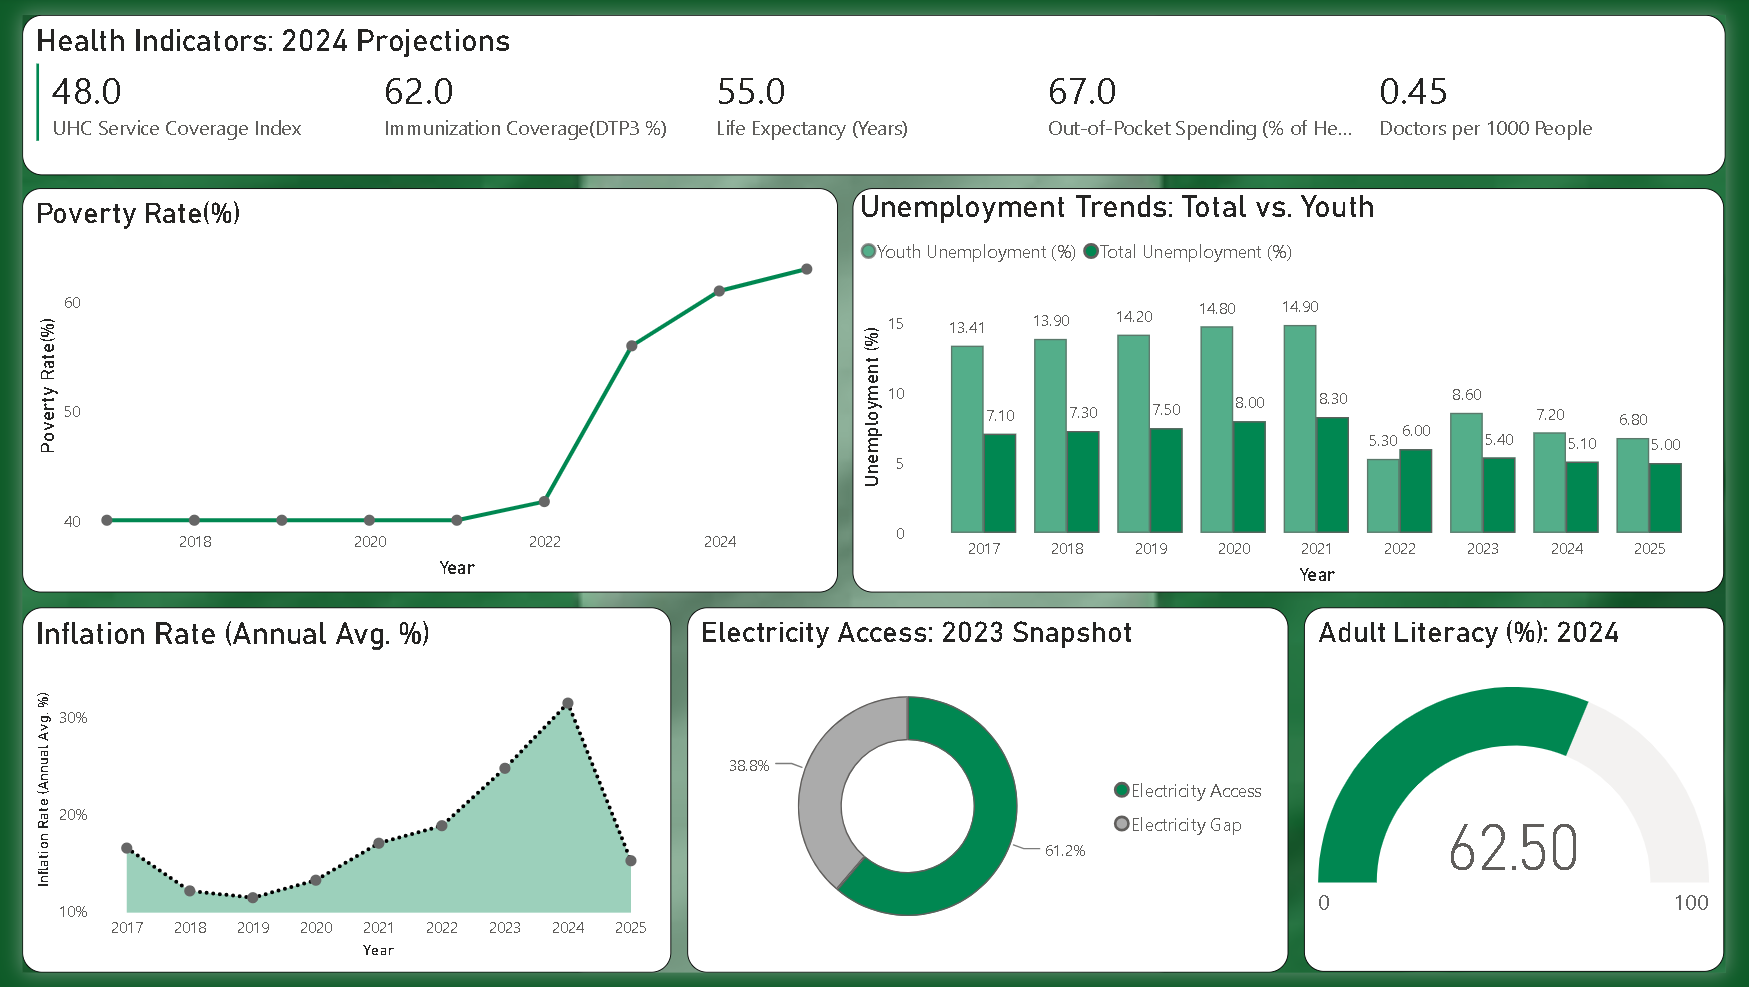

The page's visual inventory and layout, read from the dashboard file:
{"tool":"powerbi","page":{"name":"Page 1","canvas":[1280,720],"ordinal":0},"visuals":[{"type":"lineChart","title":"Poverty Rate(%)","fields":{"Category":["Nigeria_Development_Indicators_.Year"],"Y":["Max(Nigeria_Development_Indicators_.Poverty Rate(%))"]},"box":[0,130.1,613.2,304.2],"z":0},{"type":"donutChart","title":"Electricity Access: 2023 Snapshot","fields":{"Y":["Max(Nigeria_Development_Indicators_.Electricity Access(%))","Nigeria_Development_Indicators_.Electricity Gap"]},"box":[500.2,445.1,452.2,274.9],"z":1000},{"type":"clusteredColumnChart","title":"Unemployment Trends: Total vs. Youth","fields":{"Category":["Nigeria_Development_Indicators_.Year"],"Y":["Max(Nigeria_Development_Indicators_.Youth Unemployment (%))","Max(Nigeria_Development_Indicators_.Total Unemployment (%))"]},"box":[624.6,130.1,655.5,304.2],"z":2000},{"type":"multiRowCard","title":"Health Indicators: 2024 Projections","fields":{"Values":["Max(Nigeria_Development_Indicators_.UHC Service Coverage Index(0-100))","Max(Nigeria_Development_Indicators_.Immunization Coverage(DTP3 %))","Max(Nigeria_Development_Indicators_.Life Expectancy(years))","Max(Nigeria_Development_Indicators_.Out-of-Pocket Spending(% of Health Exp))","Max(Nigeria_Development_Indicators_.Doctors per 1000 People)"]},"box":[0,0,1280.5,120.9],"z":3000},{"type":"gauge","title":" Adult Literacy (%): 2024","fields":{"Y":["Max(Nigeria_Development_Indicators_.Adult Literacy(%))"]},"box":[964,446,316,274],"z":4000},{"type":"areaChart","title":"Inflation Rate (Annual Avg. %)","fields":{"Category":["Nigeria Economic and Education.Year"],"Y":["Max(Nigeria Economic and Education.Inflation Rate (Annual Avg. %))"]},"box":[0,445.1,488,274.9],"z":6000}]}

Visuals, with their boxes in screenshot pixels (x1, y1, x2, y2), scaled from the page's 1280x720 canvas onto the 1749x987 screenshot:
"Poverty Rate(%)" lineChart: <box>0,178,838,595</box>
"Electricity Access: 2023 Snapshot" donutChart: <box>683,610,1301,986</box>
"Unemployment Trends: Total vs. Youth" clusteredColumnChart: <box>853,178,1748,595</box>
"Health Indicators: 2024 Projections" multiRowCard: <box>0,0,1748,166</box>
" Adult Literacy (%): 2024" gauge: <box>1317,611,1748,986</box>
"Inflation Rate (Annual Avg. %)" areaChart: <box>0,610,667,986</box>
